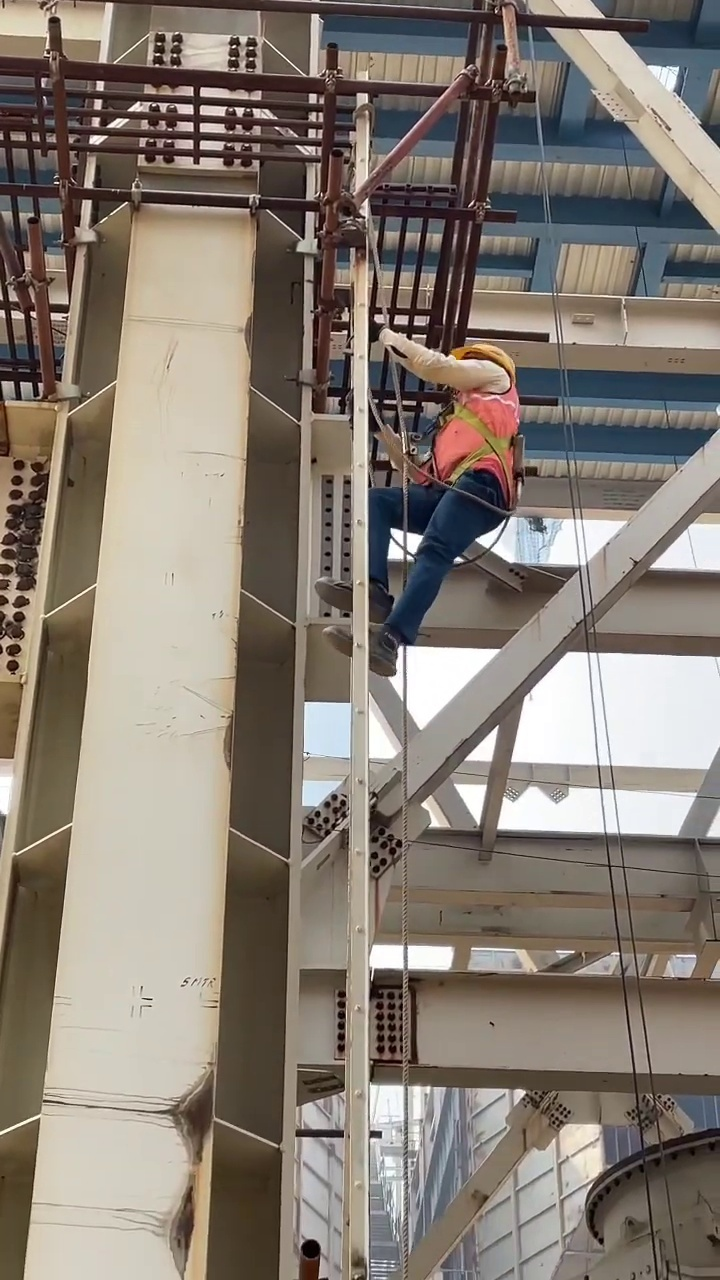Helmet: (453, 343, 515, 373)
Person: (314, 340, 525, 673)
Safety_Harness: (423, 378, 523, 514)
Safety_shoes: (323, 619, 404, 676), (313, 576, 394, 623)
